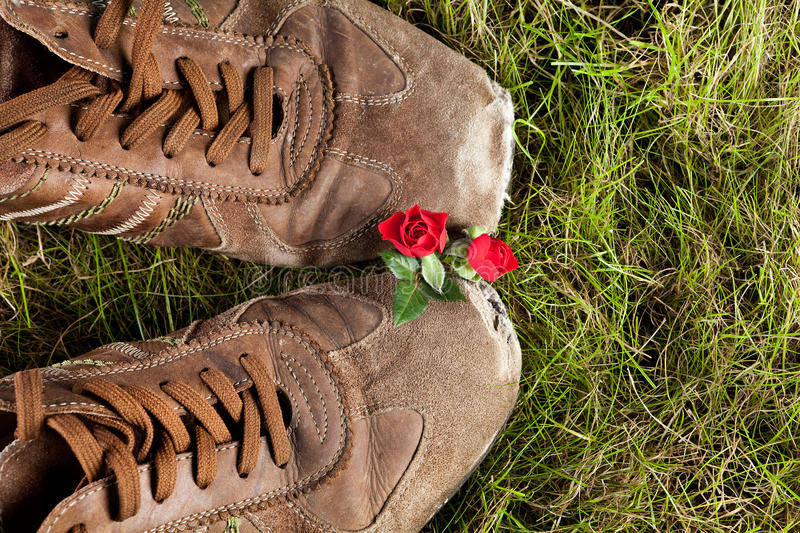RedRose: (377, 195, 451, 262), (468, 232, 525, 283)
